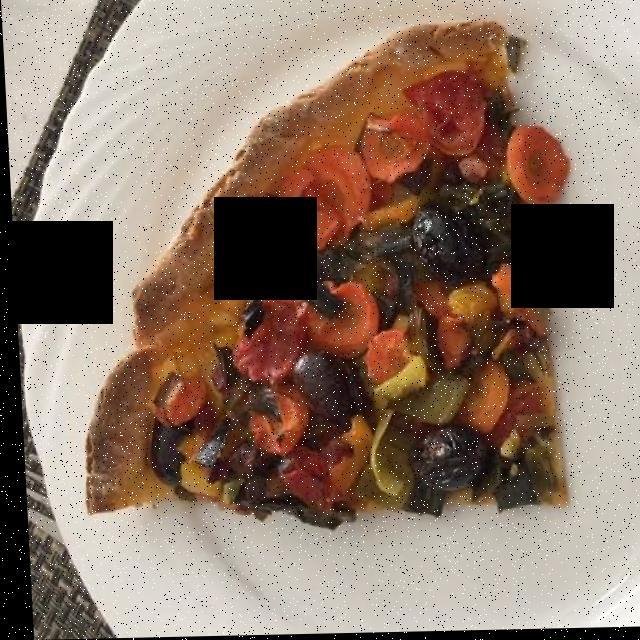vegetables-stuffed-pie: (79, 32, 552, 520)
